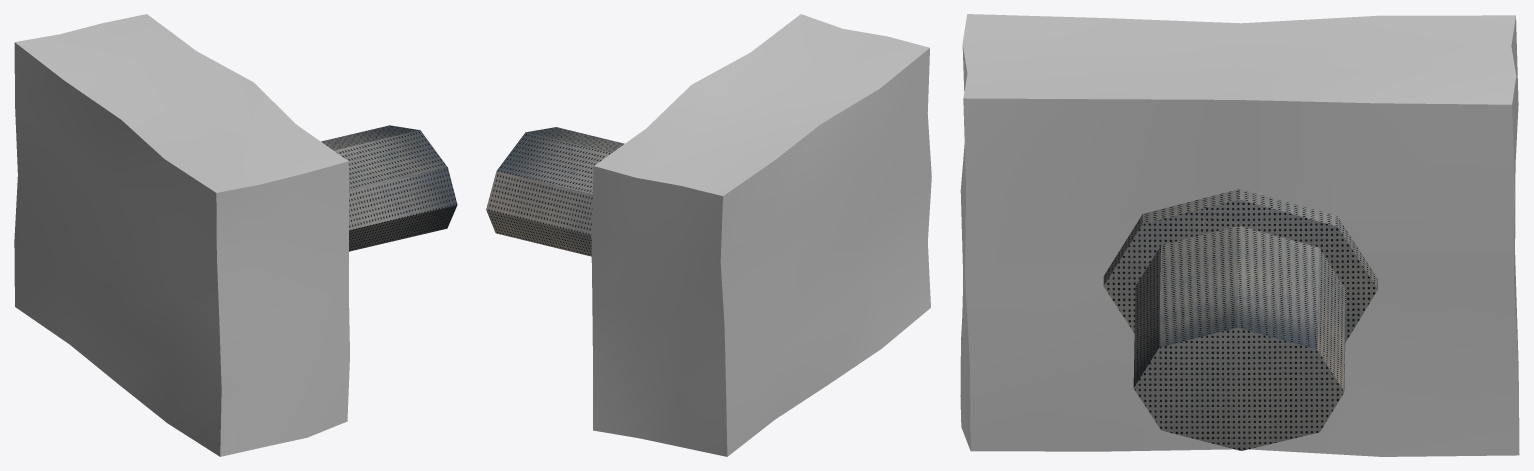
The model's file is ParedeEsmaga.FBX.
3 views of the same model, side by side, from view 1: azimuth 30°, elevation 25°; view 2: azimuth 150°, elevation 25°; view 3: azimuth 270°, elevation 25° (orthographic). The views are drawn at different scales.
Parts seen in each view (by area): view 1: Box003; view 2: Box003; view 3: Box003.
Boxes of the visible parts, x1,y1,x2,y2 form: Box003: (14,14,457,456); Box003: (486,14,931,456); Box003: (960,14,1519,456).
Bounding box in the file's own units: 1455 × 1719 × 1226.
